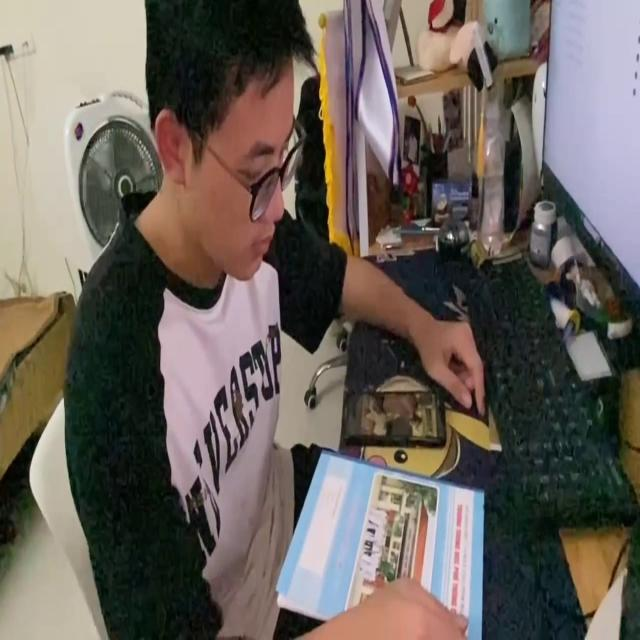book: (275, 444, 484, 640)
laptop: (539, 3, 640, 328)
phone: (341, 379, 450, 450)
student: (56, 0, 486, 640)
